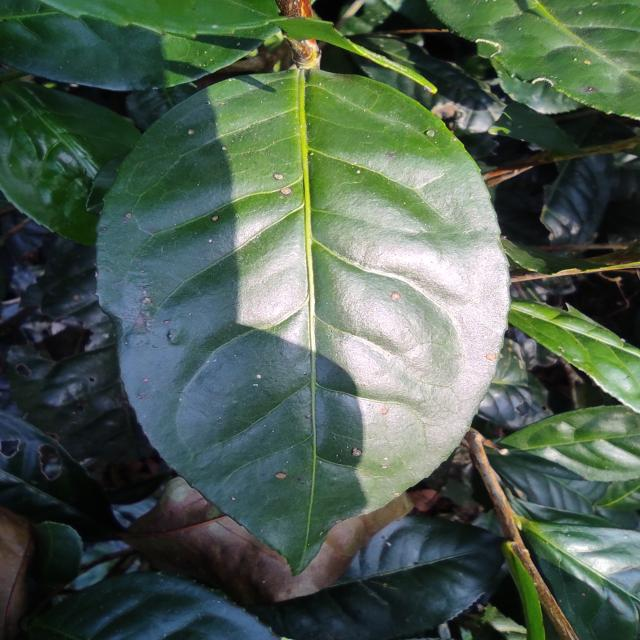Category D 7+ days, Not for Tea: (64, 56, 520, 582)
